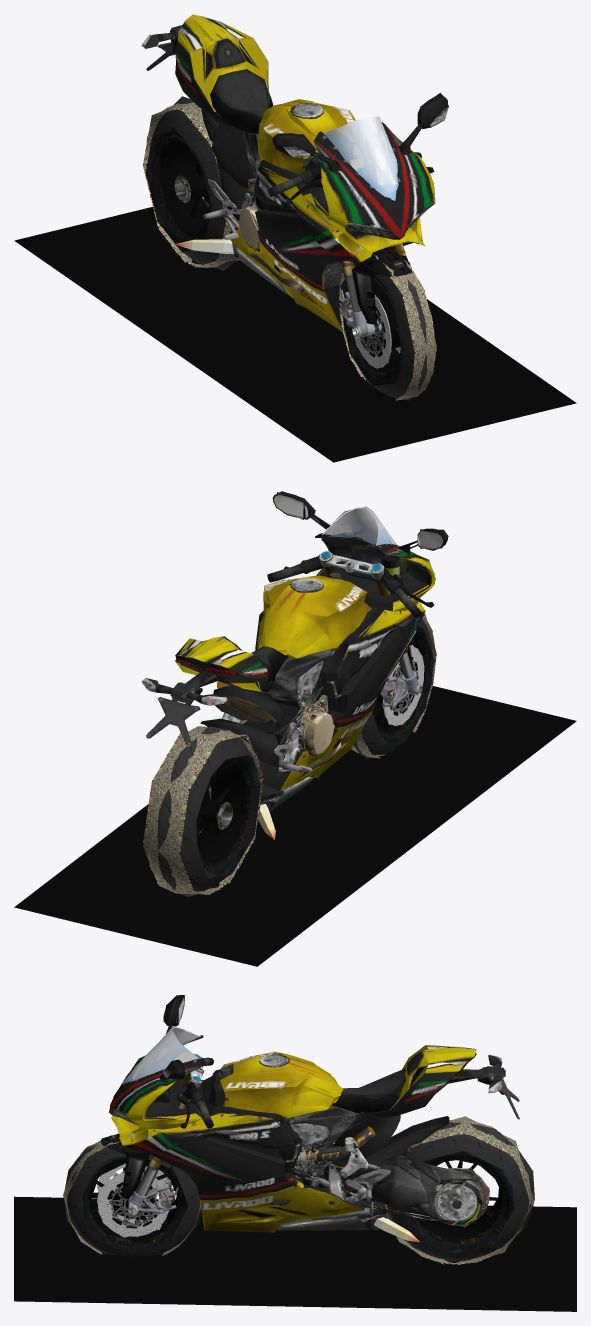
File: Feyado 2015 Pelaautuxu 1000 S Yellow.fbx
3 renders of one model, top to bottom at view 1: azimuth 30°, elevation 25°; view 2: azimuth 150°, elevation 25°; view 3: azimuth 270°, elevation 25°, orthographic. The views are drawn at different scales.
Visible parts, largest first — view 1: Motorbike_Shadow, Body__LOD2_, Body, Body__LOD1_, Rear_Wheel__LOD2_, Front_Wheel__LOD2_, Front_Fork, Front_Wheel_Dirt__LOD2_, Front_Wheel, Front_Fork__LOD2_, Rear_Tire__LOD2_, Front_Tire__LOD2_ (+10 smaller); view 2: Motorbike_Shadow, Body__LOD2_, Body, Body__LOD1_, Rear_Wheel__LOD2_, Rear_Wheel_Dirt__LOD2_, Rear_Tire__LOD2_, Rear_Wheel_Dirt, Front_Wheel__LOD2_, Handle, Front_Wheel, Handle__LOD1_ (+9 smaller); view 3: Motorbike_Shadow, Body__LOD2_, Body, Body__LOD1_, Rear_Wheel__LOD2_, Front_Wheel__LOD2_, Swing_Arm__LOD1_, Front_Wheel, Rear_Tire__LOD2_, Swing_Arm, Swing_Arm__LOD2_, Rear_Tire__LOD1_ (+19 smaller).
Part boxes in pixels (bbox=[...]): Motorbike_Shadow: bbox=[14, 207, 576, 462]; Body__LOD2_: bbox=[145, 14, 448, 331]; Body: bbox=[144, 15, 447, 330]; Body__LOD1_: bbox=[141, 16, 447, 328]; Rear_Wheel__LOD2_: bbox=[145, 126, 211, 251]; Front_Wheel__LOD2_: bbox=[342, 275, 402, 385]; Front_Fork: bbox=[338, 243, 408, 337]; Front_Wheel_Dirt__LOD2_: bbox=[339, 255, 436, 400]; Front_Wheel: bbox=[352, 282, 401, 374]; Front_Fork__LOD2_: bbox=[339, 243, 412, 337]; Rear_Tire__LOD2_: bbox=[153, 96, 237, 270]; Front_Tire__LOD2_: bbox=[355, 266, 427, 400]; Motorbike_Shadow: bbox=[14, 686, 576, 966]; Body__LOD2_: bbox=[145, 492, 448, 789]; Body: bbox=[143, 492, 447, 788]; Body__LOD1_: bbox=[141, 491, 447, 790]; Rear_Wheel__LOD2_: bbox=[195, 754, 260, 878]; Rear_Wheel_Dirt__LOD2_: bbox=[143, 730, 263, 894]; Rear_Tire__LOD2_: bbox=[157, 726, 249, 896]; Rear_Wheel_Dirt: bbox=[146, 728, 260, 894]; Front_Wheel__LOD2_: bbox=[372, 625, 434, 743]; Handle: bbox=[267, 551, 433, 617]; Front_Wheel: bbox=[374, 638, 425, 733]; Handle__LOD1_: bbox=[267, 551, 432, 617]; Motorbike_Shadow: bbox=[14, 1196, 576, 1311]; Body__LOD2_: bbox=[108, 995, 515, 1232]; Body: bbox=[109, 995, 519, 1230]; Body__LOD1_: bbox=[110, 995, 519, 1230]; Rear_Wheel__LOD2_: bbox=[401, 1150, 514, 1254]; Front_Wheel__LOD2_: bbox=[78, 1155, 188, 1253]; Swing_Arm__LOD1_: bbox=[335, 1116, 481, 1224]; Front_Wheel: bbox=[88, 1163, 178, 1244]; Rear_Tire__LOD2_: bbox=[383, 1122, 534, 1256]; Swing_Arm: bbox=[335, 1116, 481, 1224]; Swing_Arm__LOD2_: bbox=[347, 1116, 481, 1221]; Rear_Tire__LOD1_: bbox=[388, 1134, 528, 1261].
Bounding box in the file's own units: 110 × 114 × 250.
